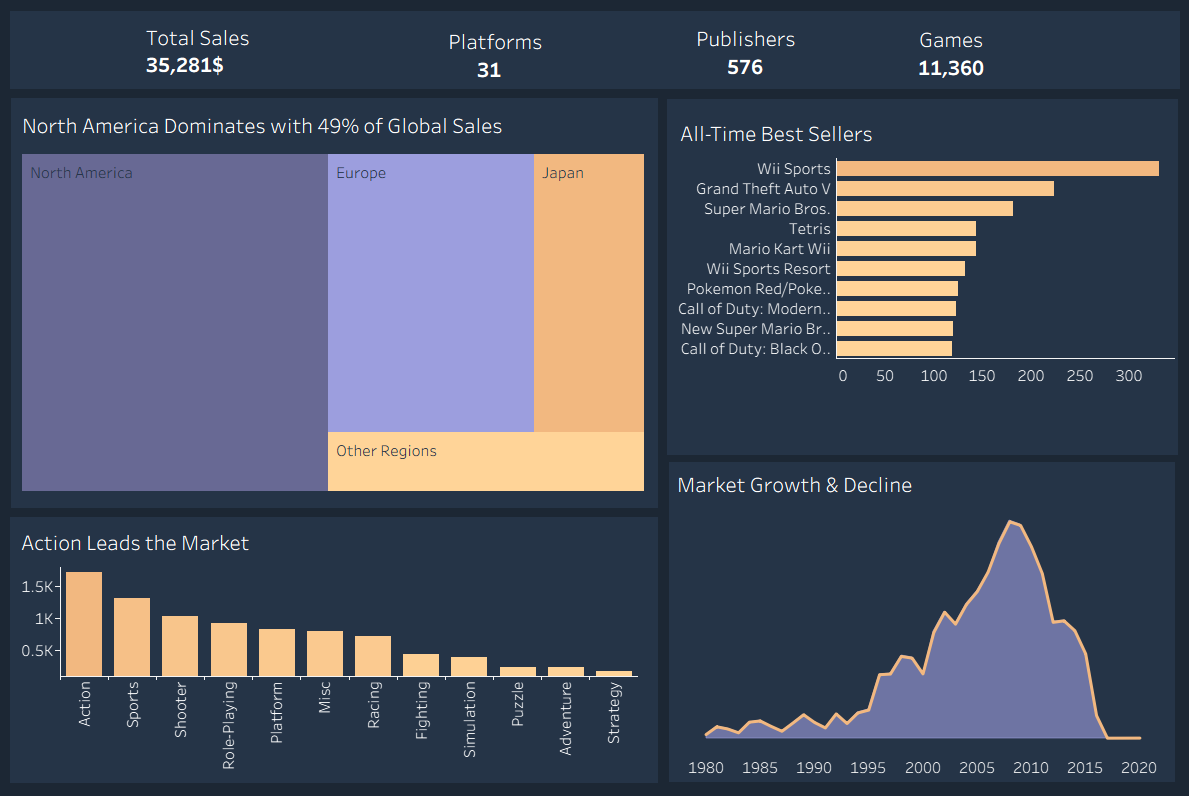

What the dashboard file says about the page in this screenshot:
{"tool":"tableau","page":{"name":"Dashboard 1","canvas":[1200,800],"ordinal":0},"visuals":[{"type":"worksheet","title":"Total Sales","mark":"Automatic","box":[150,17,340,81]},{"type":"worksheet","title":"Publisher Count","mark":"Automatic","box":[687.7,26.7,399.7,66.7]},{"type":"worksheet","title":"Platforms","mark":"Automatic","box":[395.1,30.2,256.6,71.1]},{"type":"worksheet","title":"North America Dominates with 49% of Global Sales","mark":"Automatic","box":[26,109,635,389]},{"type":"worksheet","title":"All-Time Best Sellers","mark":"Automatic","rows":["name"],"cols":["global_sales"],"box":[684,117,499,347]},{"type":"worksheet","title":"Market Growth & Decline","mark":"Area","rows":["Sales","Sales"],"cols":["year"],"box":[676.6,464,506.8,320]},{"type":"worksheet","title":"Action Leads the Market","mark":"Automatic","rows":["Sales"],"cols":["genre"],"box":[24.9,526.2,621.2,251.6]}]}

Visuals, with their boxes in screenshot pixels (x1, y1, x2, y2), scaled from the page's 1200x800 canvas onto the 1189x796 screenshot:
"Total Sales" worksheet: [149, 17, 486, 98]
"Publisher Count" worksheet: [681, 27, 1077, 93]
"Platforms" worksheet: [391, 30, 646, 101]
"North America Dominates with 49% of Global Sales" worksheet: [26, 108, 655, 496]
"All-Time Best Sellers" worksheet: [678, 116, 1172, 462]
"Market Growth & Decline" worksheet (Area marks): [670, 462, 1173, 780]
"Action Leads the Market" worksheet: [25, 524, 640, 774]
